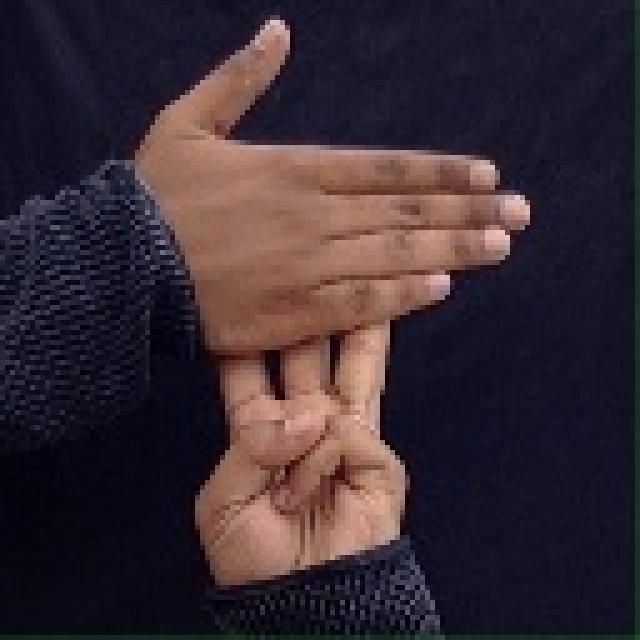Alphabet-M: (133, 16, 534, 597)
